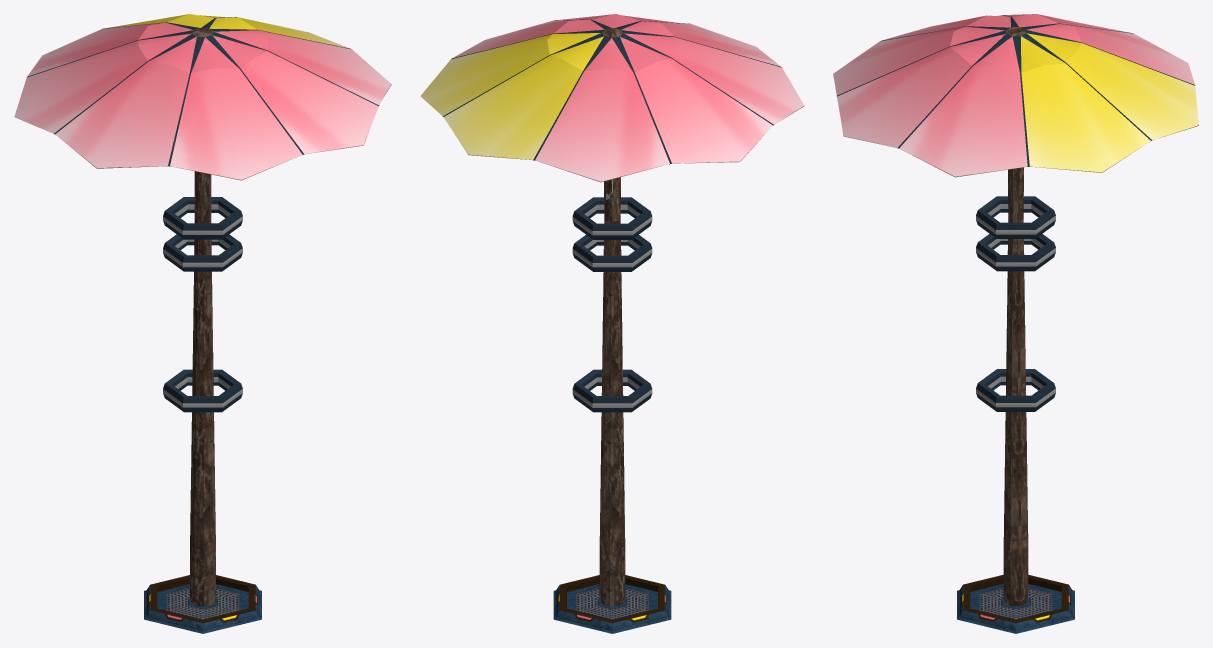
Rendered from Museum_Tree_02_a_Art.fbx.
The picture shows the model from 3 angles, left to right: view 1: azimuth 30°, elevation 25°; view 2: azimuth 150°, elevation 25°; view 3: azimuth 270°, elevation 25°; orthographic projection.
Parts seen in each view (by area): view 1: Museum_Tree_02_a; view 2: Museum_Tree_02_a; view 3: Museum_Tree_02_a.
Boxes of the visible parts, x1,y1,x2,y2 form: Museum_Tree_02_a: (14, 14, 391, 633); Museum_Tree_02_a: (420, 14, 804, 633); Museum_Tree_02_a: (833, 14, 1198, 633).
Size of what is drawn, in the model's own units: 702 by 1217 by 702.
4 materials, 3 textured.
